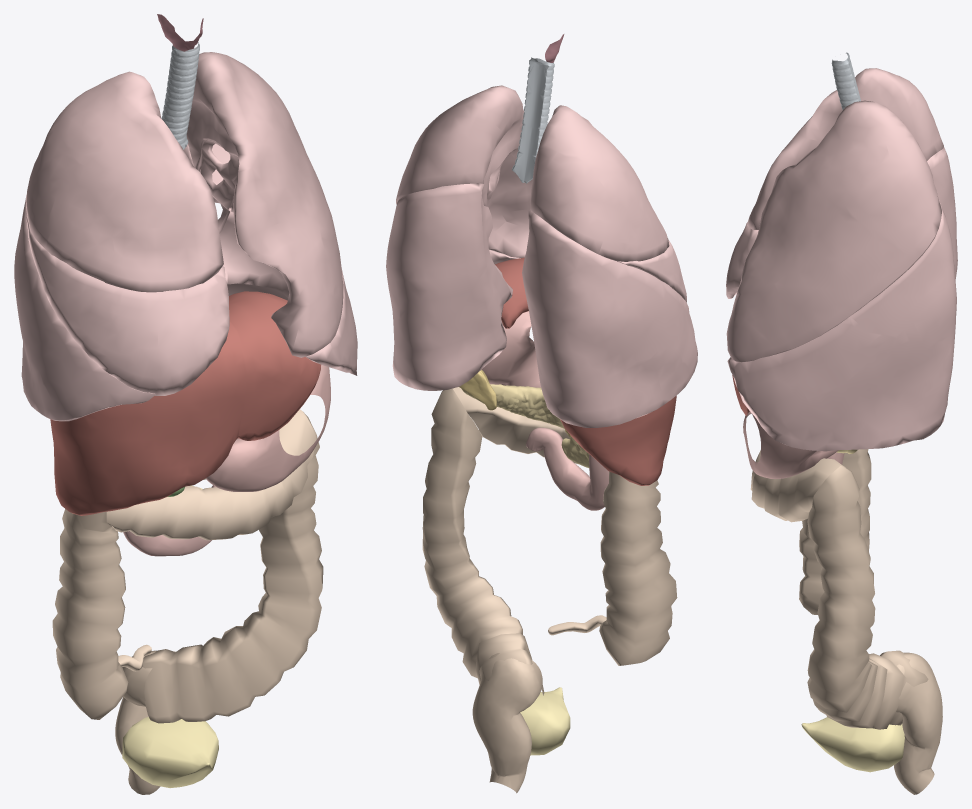
The model's file is organs-v1.glb.
The picture shows the model from 3 angles, left to right: view 1: azimuth 30°, elevation 25°; view 2: azimuth 150°, elevation 25°; view 3: azimuth 270°, elevation 25°; orthographic projection. The views are drawn at different scales.
Parts seen in each view (by area): view 1: Superior lobe of right lung, Liver, Superior lobe of left lung, Descending colon, Middle lobe of right lung, Ascending colon, Inferior lobe of right lung, Transverse colon, Urinary bladder, Inferior lobe of left lung, Stomach, Trachea (+3 smaller); view 2: Inferior lobe of right lung, Inferior lobe of left lung, Descending colon, Superior lobe of right lung, Superior lobe of left lung, Ascending colon, Liver, Sigmoid colon, Duodenum, Trachea, Transverse colon, Stomach (+5 smaller); view 3: Superior lobe of left lung, Inferior lobe of left lung, Descending colon, Superior lobe of right lung, Sigmoid colon, Urinary bladder, Transverse colon, Ascending colon, Stomach, Inferior lobe of right lung, Middle lobe of right lung, Trachea.
Boxes of the visible parts, x1,y1,x2,y2 form: Superior lobe of right lung: (26,71,223,292); Liver: (50,291,320,515); Superior lobe of left lung: (186,52,343,357); Descending colon: (142,412,323,723); Middle lobe of right lung: (26,217,229,395); Ascending colon: (52,509,128,719); Inferior lobe of right lung: (14,195,155,421); Transverse colon: (106,409,316,540); Urinary bladder: (122,717,218,788); Inferior lobe of left lung: (184,143,357,375); Stomach: (205,365,330,491); Trachea: (161,42,199,149); Inferior lobe of right lung: (522,211,697,427); Inferior lobe of left lung: (386,183,520,390); Descending colon: (422,388,544,695); Superior lobe of right lung: (530,105,669,261); Superior lobe of left lung: (396,85,532,257); Ascending colon: (599,471,677,665); Liver: (495,257,676,485); Sigmoid colon: (472,653,542,793); Duodenum: (526,427,608,510); Trachea: (512,57,554,183); Transverse colon: (452,387,578,464); Stomach: (482,311,540,387); Superior lobe of left lung: (726,100,941,362); Inferior lobe of left lung: (727,203,956,451); Descending colon: (807,466,928,729); Superior lobe of right lung: (747,68,943,229); Sigmoid colon: (894,652,942,794); Urinary bladder: (801,717,904,772); Transverse colon: (750,450,845,522); Ascending colon: (799,449,871,614); Stomach: (743,411,838,478); Inferior lobe of right lung: (927,147,957,278); Middle lobe of right lung: (726,222,758,298); Trachea: (831,52,860,109).
Bounding box in the file's own units: 0.2618 × 0.6856 × 0.1866.
